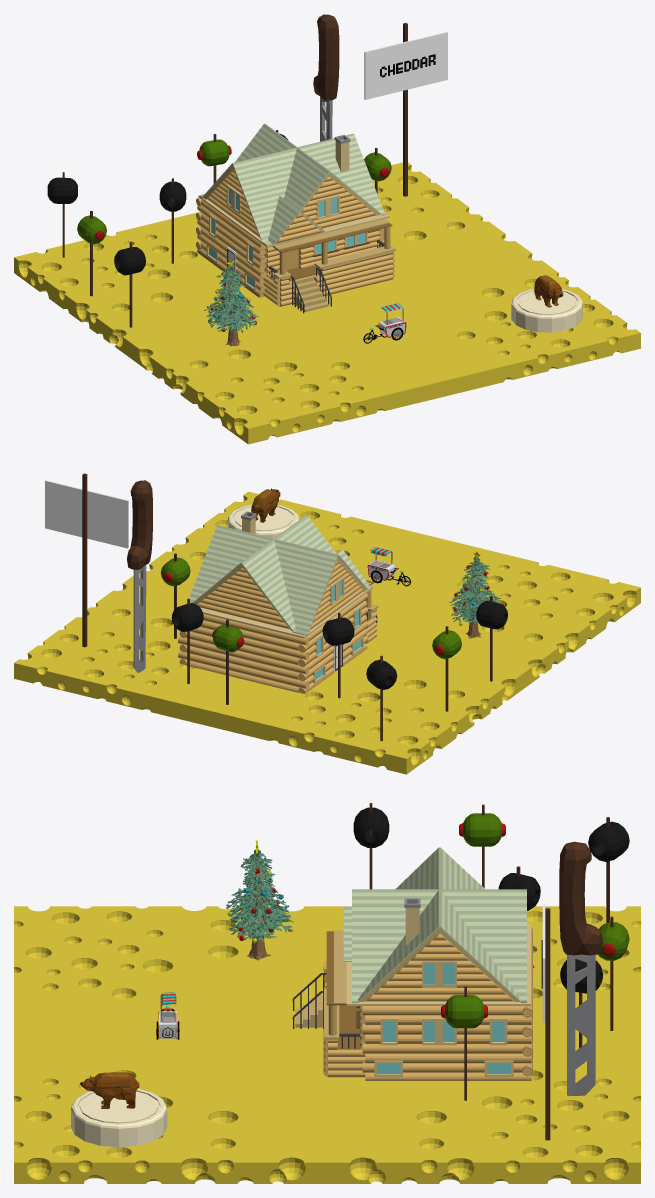
3 views of the same model, one above another, from view 1: azimuth 30°, elevation 25°; view 2: azimuth 150°, elevation 25°; view 3: azimuth 270°, elevation 25° (orthographic). The views are drawn at different scales.
Visible parts, largest first — view 1: Cube.022, Cube.1516, Cube.023, Cylinder.016, Cube.024, OBJRANDOM_CHRISTMAS_TREE, Sphere.017, Sphere.016, Sphere.020, Sphere.018, Sphere.022, VEHICLES_SNOWBAL_BIKE (+2 smaller); view 2: Cube.022, Cube.1516, Cube.023, Cube.024, OBJRANDOM_CHRISTMAS_TREE, Cylinder.016, Sphere.017, Sphere.020, Sphere.021, Sphere.016, Sphere.018, Sphere.022 (+3 smaller); view 3: Cube.022, Cube.1516, Cube.024, Cylinder.016, OBJRANDOM_CHRISTMAS_TREE, Cube.023, Sphere.019, Sphere.016, ANIMAL_OSO, Sphere.018, Sphere.017, Sphere.022 (+3 smaller).
Boxes of the visible parts, x1,y1,x2,y2 form: Cube.022: (14,162,640,444); Cube.1516: (196,123,395,313); Cube.023: (364,23,447,196); Cylinder.016: (511,288,582,332); Cube.024: (313,14,339,141); OBJRANDOM_CHRISTMAS_TREE: (204,260,258,346); Sphere.017: (114,242,145,327); Sphere.016: (47,172,77,257); Sphere.020: (159,178,186,263); Sphere.018: (77,210,106,296); Sphere.022: (197,134,231,183); VEHICLES_SNOWBAL_BIKE: (363,303,406,343); Cube.022: (14,491,640,774); Cube.1516: (178,511,378,693); Cube.023: (45,473,128,647); Cube.024: (127,480,152,672); OBJRANDOM_CHRISTMAS_TREE: (449,551,500,638); Cylinder.016: (228,504,298,538); Sphere.017: (476,596,507,681); Sphere.020: (322,612,354,698); Sphere.021: (171,598,203,683); Sphere.016: (366,655,397,741); Sphere.018: (432,626,461,711); Sphere.022: (212,619,244,704); Cube.022: (14,906,640,1183); Cube.1516: (292,847,532,1080); Cube.024: (559,841,602,1095); Cylinder.016: (71,1088,167,1147); OBJRANDOM_CHRISTMAS_TREE: (226,840,293,961); Cube.023: (541,904,550,1140); Sphere.019: (441,986,487,1100); Sphere.016: (588,817,629,922); ANIMAL_OSO: (80,1072,139,1108); Sphere.018: (459,804,505,887); Sphere.017: (353,803,389,889); Sphere.022: (598,916,629,1030).
Bounding box in the file's own units: 3917 × 2007 × 4000.
Materials: 44 (4 with a texture image).
